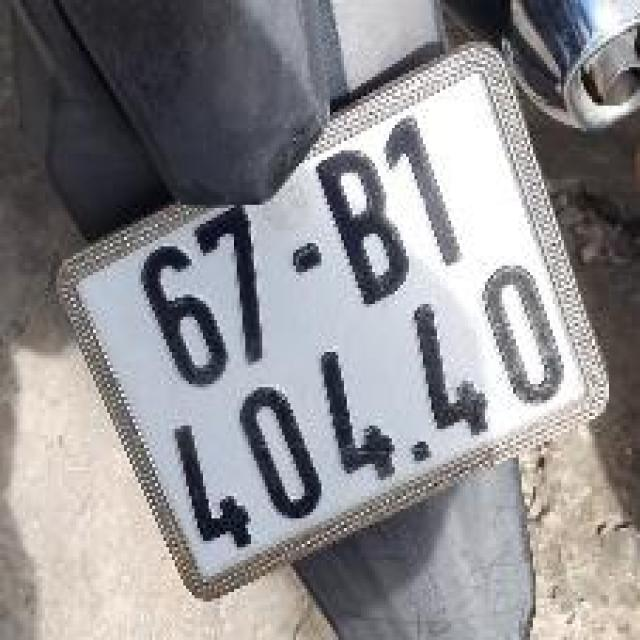0: (464, 242, 588, 437), (221, 371, 337, 538)
1: (371, 103, 478, 277)
4: (373, 285, 512, 463), (289, 332, 415, 502), (154, 401, 271, 578)
6: (124, 232, 242, 402)
7: (189, 196, 303, 374)
B: (301, 136, 430, 325)
